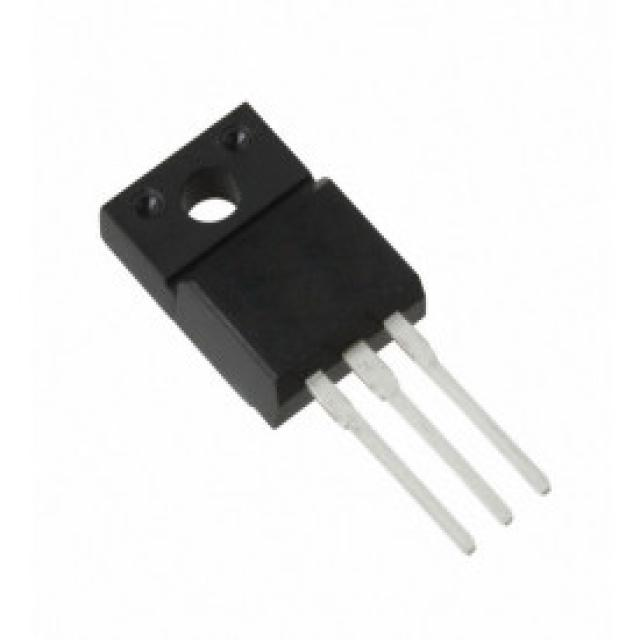Transistor: (100, 106, 556, 559)
